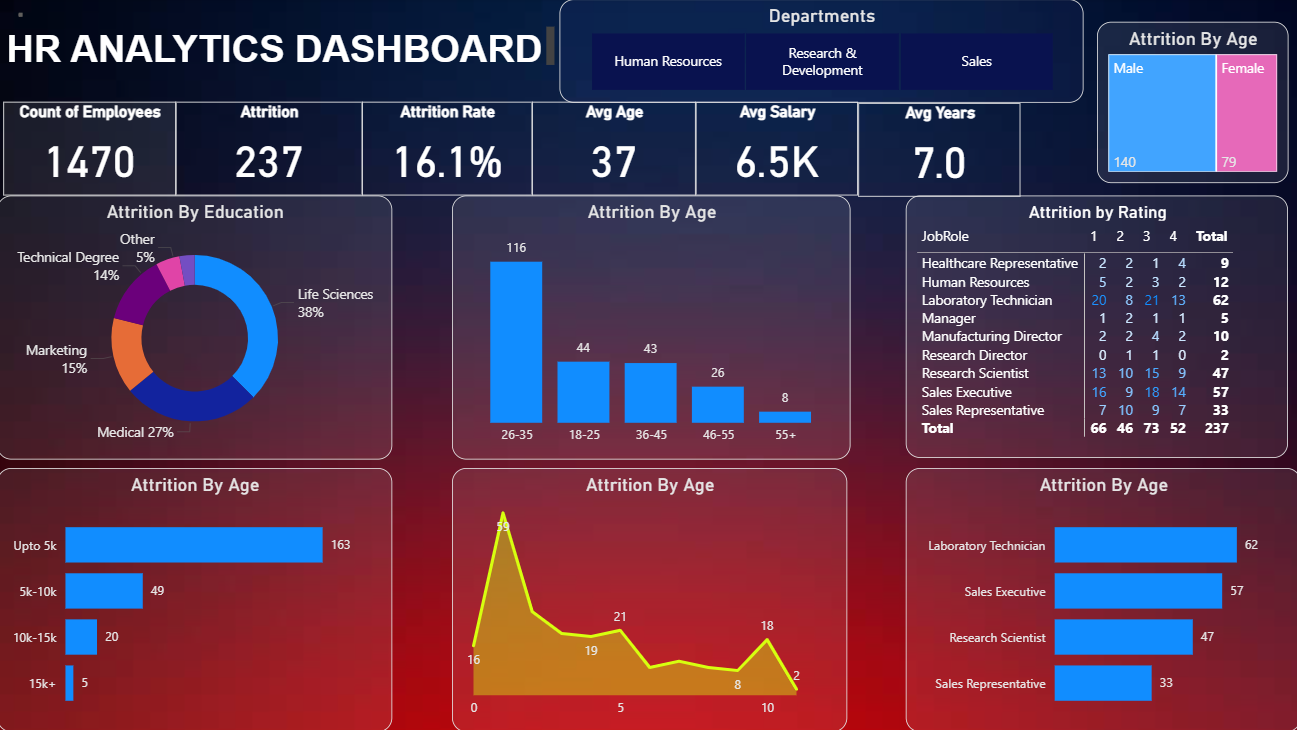

The page's visual inventory and layout, read from the dashboard file:
{"tool":"powerbi","page":{"name":"Page 1","canvas":[1280,720],"ordinal":0},"visuals":[{"type":"card","title":"Count of Employees","fields":{"Values":["Count(HR_Analytics.EmpID)"]},"box":[6.1,101.8,169.3,92],"z":0},{"type":"card","title":"Attrition","fields":{"Values":["Sum(HR_Analytics.AttritionCount)"]},"box":[175.5,101.8,182.8,92],"z":1000},{"type":"card","title":"Attrition Rate","fields":{"Values":["HR_Analytics.AttritionRate"]},"box":[358.3,101.8,166.9,92],"z":2000},{"type":"card","title":"Avg Age","fields":{"Values":["Avg(HR_Analytics.Age)"]},"box":[525.2,101.8,160.7,92],"z":3000},{"type":"actionButton","box":[17.2,0,12.3,33.1],"z":4000},{"type":"card","title":"Avg Salary","fields":{"Values":["Avg(HR_Analytics.MonthlyIncome)"]},"box":[685.9,101.8,159.5,92],"z":5000},{"type":"card","title":"Avg Years","fields":{"Values":["Avg(HR_Analytics.YearsAtCompany)"]},"box":[845.4,103.1,159.5,92],"z":6000},{"type":"donutChart","title":"Attrition By Education","fields":{"Category":["HR_Analytics.EducationField"],"Y":["Sum(HR_Analytics.AttritionCount)"]},"box":[0,193.9,387.7,258.9],"z":7000},{"type":"columnChart","title":"Attrition By Age","fields":{"Category":["HR_Analytics.AgeGroup"],"Y":["Sum(HR_Analytics.AttritionCount)"]},"box":[446.6,193.9,391.4,258.9],"z":8000},{"type":"pivotTable","title":"Attrition by Rating","fields":{"Rows":["HR_Analytics.JobRole"],"Columns":["HR_Analytics.JobSatisfaction"],"Values":["Sum(HR_Analytics.AttritionCount)"]},"box":[892,193.9,375.5,257.7],"z":9000},{"type":"barChart","title":"Attrition By Age","fields":{"Category":["HR_Analytics.SalarySlab"],"Y":["Sum(HR_Analytics.AttritionCount)"]},"box":[0,461.4,387.7,258.9],"z":10000},{"type":"barChart","title":"Attrition By Age","fields":{"Category":["HR_Analytics.JobRole"],"Y":["Sum(HR_Analytics.AttritionCount)"]},"box":[892,461.4,387.7,258.9],"z":11000},{"type":"areaChart","title":"Attrition By Age","fields":{"Category":["HR_Analytics.YearsAtCompany"],"Y":["Sum(HR_Analytics.AttritionCount)"]},"box":[446.6,461.4,387.7,258.9],"z":12000},{"type":"treemap","title":"Attrition By Age","fields":{"Group":["HR_Analytics.Gender"],"Values":["Sum(HR_Analytics.AttritionCount)"]},"box":[1079.8,23.3,187.7,158.3],"z":13000},{"type":"slicer","title":"Departments","fields":{"Values":["HR_Analytics.Department"]},"box":[552.2,1.2,514.1,101.8],"z":14000},{"type":"textbox","box":[0,23.3,552.2,50.3],"z":14001}]}

Visuals, with their boxes in screenshot pixels (x1, y1, x2, y2), scaled from the page's 1280x720 canvas onto the 1297x730 screenshot:
"Count of Employees" card: box(6, 103, 178, 196)
"Attrition" card: box(178, 103, 363, 196)
"Attrition Rate" card: box(363, 103, 532, 196)
"Avg Age" card: box(532, 103, 695, 196)
actionButton: box(17, 0, 30, 34)
"Avg Salary" card: box(695, 103, 857, 196)
"Avg Years" card: box(857, 105, 1018, 198)
"Attrition By Education" donutChart: box(0, 197, 393, 459)
"Attrition By Age" columnChart: box(453, 197, 849, 459)
"Attrition by Rating" pivotTable: box(904, 197, 1284, 458)
"Attrition By Age" barChart: box(0, 468, 393, 729)
"Attrition By Age" barChart: box(904, 468, 1296, 729)
"Attrition By Age" areaChart: box(453, 468, 845, 729)
"Attrition By Age" treemap: box(1094, 24, 1284, 184)
"Departments" slicer: box(560, 1, 1080, 104)
textbox: box(0, 24, 560, 75)
